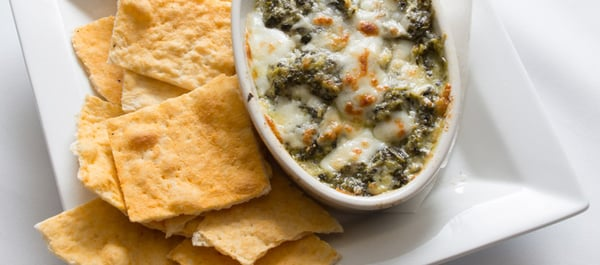soup: (74, 73, 273, 232)
sushi: (233, 0, 464, 212)
